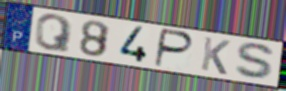4: (117, 24, 150, 65)
8: (79, 19, 111, 58)
K: (199, 35, 233, 77)
P: (153, 27, 196, 69)
Q: (33, 13, 75, 54)
S: (233, 42, 278, 82)
